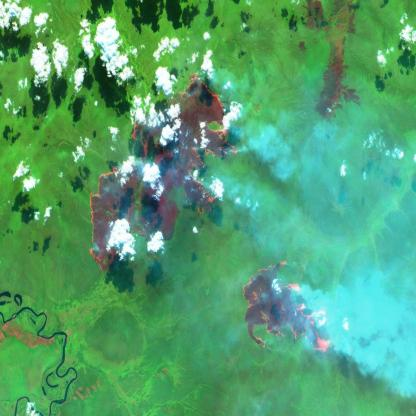fire: (79, 70, 240, 285), (239, 262, 331, 364)
